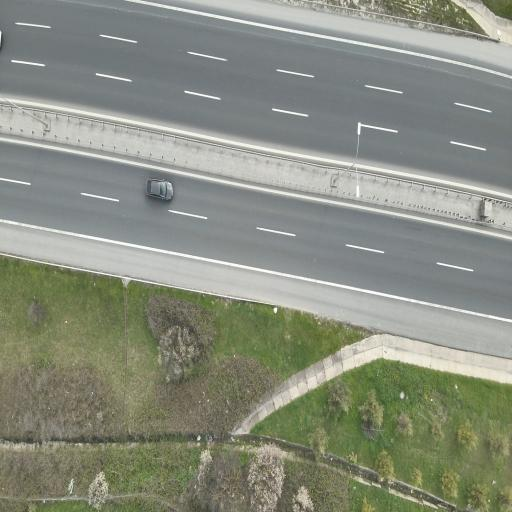car: (146, 179, 173, 199), (0, 31, 1, 45)
